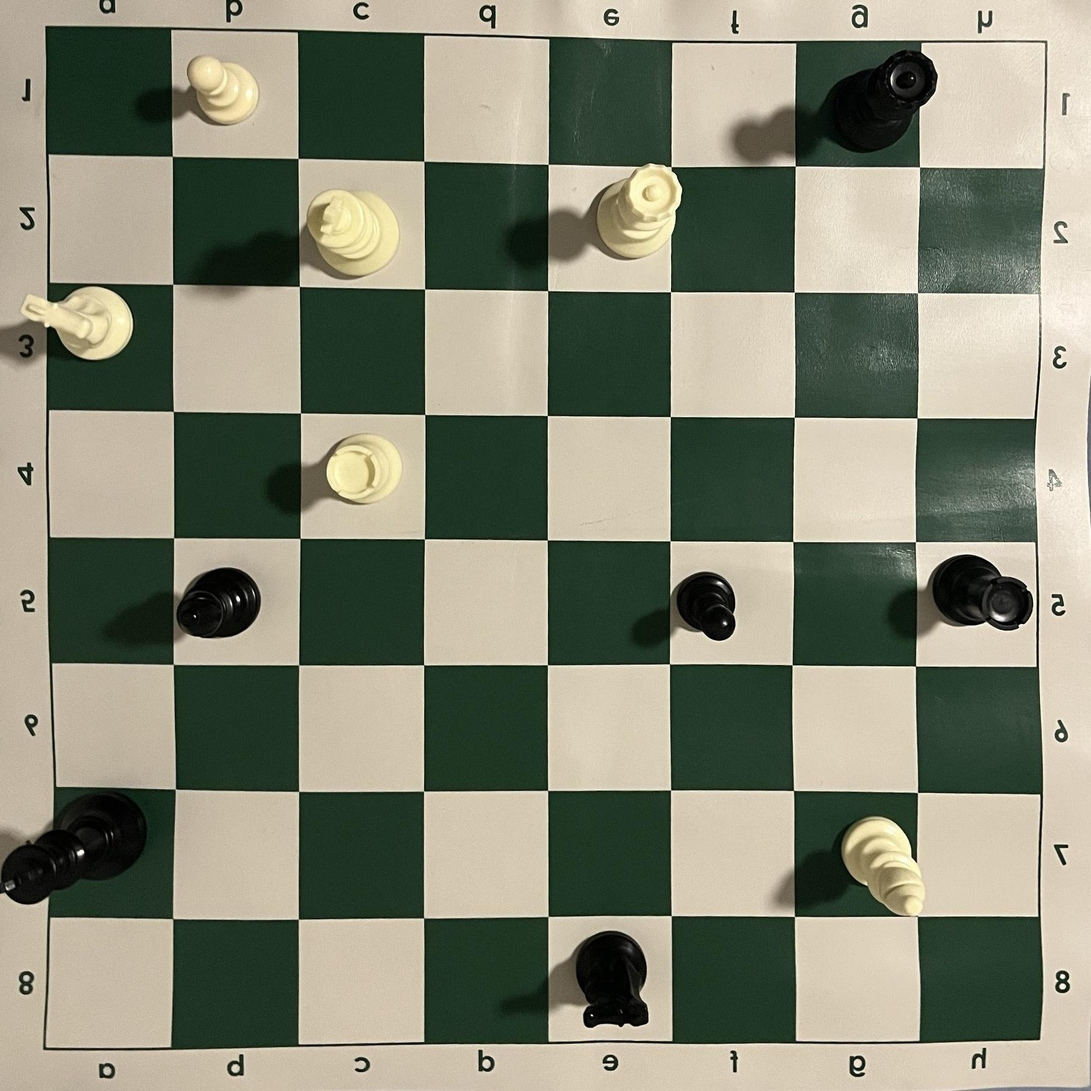black_bishop: (176, 567, 262, 639)
black_king: (0, 792, 148, 906)
black_knight: (575, 930, 650, 1029)
black_pawn: (675, 572, 736, 641)
black_queen: (823, 49, 939, 152)
black_rook: (932, 553, 1036, 631)
white_bishop: (839, 816, 925, 918)
white_king: (305, 188, 402, 277)
white_knight: (21, 286, 134, 361)
white_pawn: (187, 55, 261, 127)
white_queen: (595, 163, 683, 260)
white_rook: (325, 432, 404, 505)
